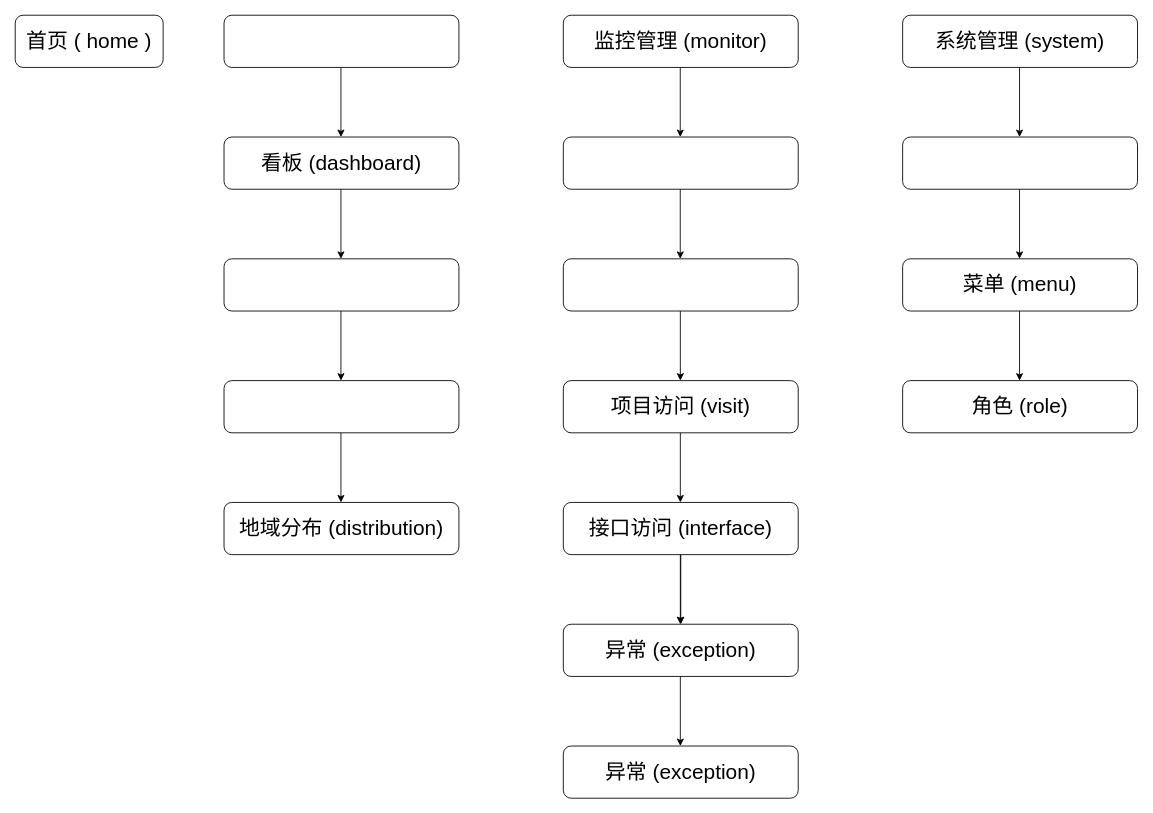
Some shapes in this 1153 by 813 pixel diagram are drawn without their labels. The shapes that lost their labels are listed below. From the top down, each one's box as (x1, y1, x2, y2) in pixels, then its label:
(223, 14, 459, 67): 概览 (overview)
(562, 136, 798, 189): 项目 (project)
(902, 136, 1138, 189): 用户 (user)
(223, 258, 459, 311): 性能预览 (performance)
(562, 258, 798, 311): 访客 (visitor)
(223, 380, 459, 433): 异常监控 (exception)
